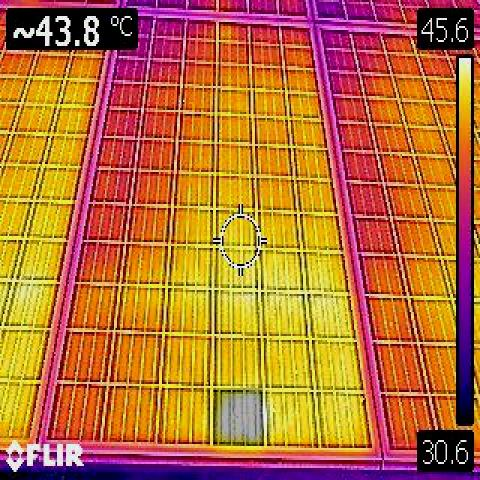fault: (214, 388, 263, 446)
